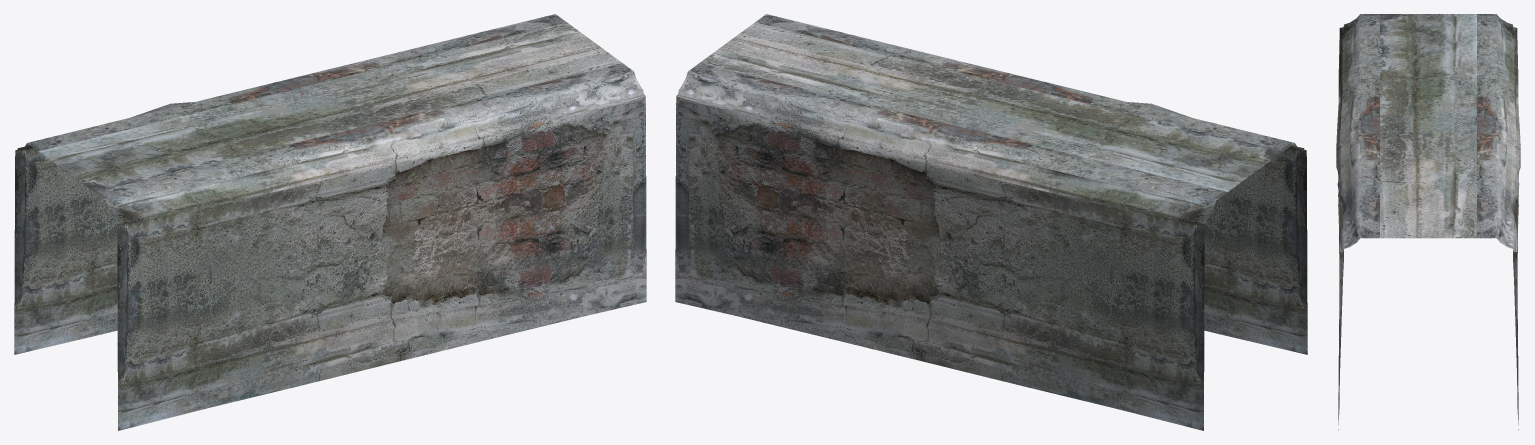
Rendered from SM_ChapelWall_05_03.fbx.
3 views of the same model, side by side, from view 1: azimuth 30°, elevation 25°; view 2: azimuth 150°, elevation 25°; view 3: azimuth 270°, elevation 25° (orthographic). The views are drawn at different scales.
Visible parts, largest first — view 1: sm_ChapelWall_05_03_LOD0; view 2: sm_ChapelWall_05_03_LOD0; view 3: sm_ChapelWall_05_03_LOD0.
Part boxes in pixels (<box>): sm_ChapelWall_05_03_LOD0: <box>14,14,646,430</box>; sm_ChapelWall_05_03_LOD0: <box>675,14,1307,430</box>; sm_ChapelWall_05_03_LOD0: <box>1336,14,1520,430</box>.
Bounding box in the file's own units: 86.91 × 250 × 100.
